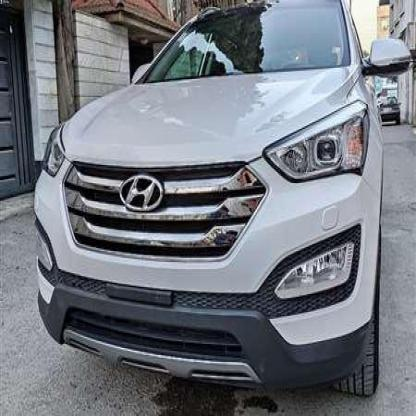Car: (36, 0, 385, 406), (378, 94, 407, 128)
